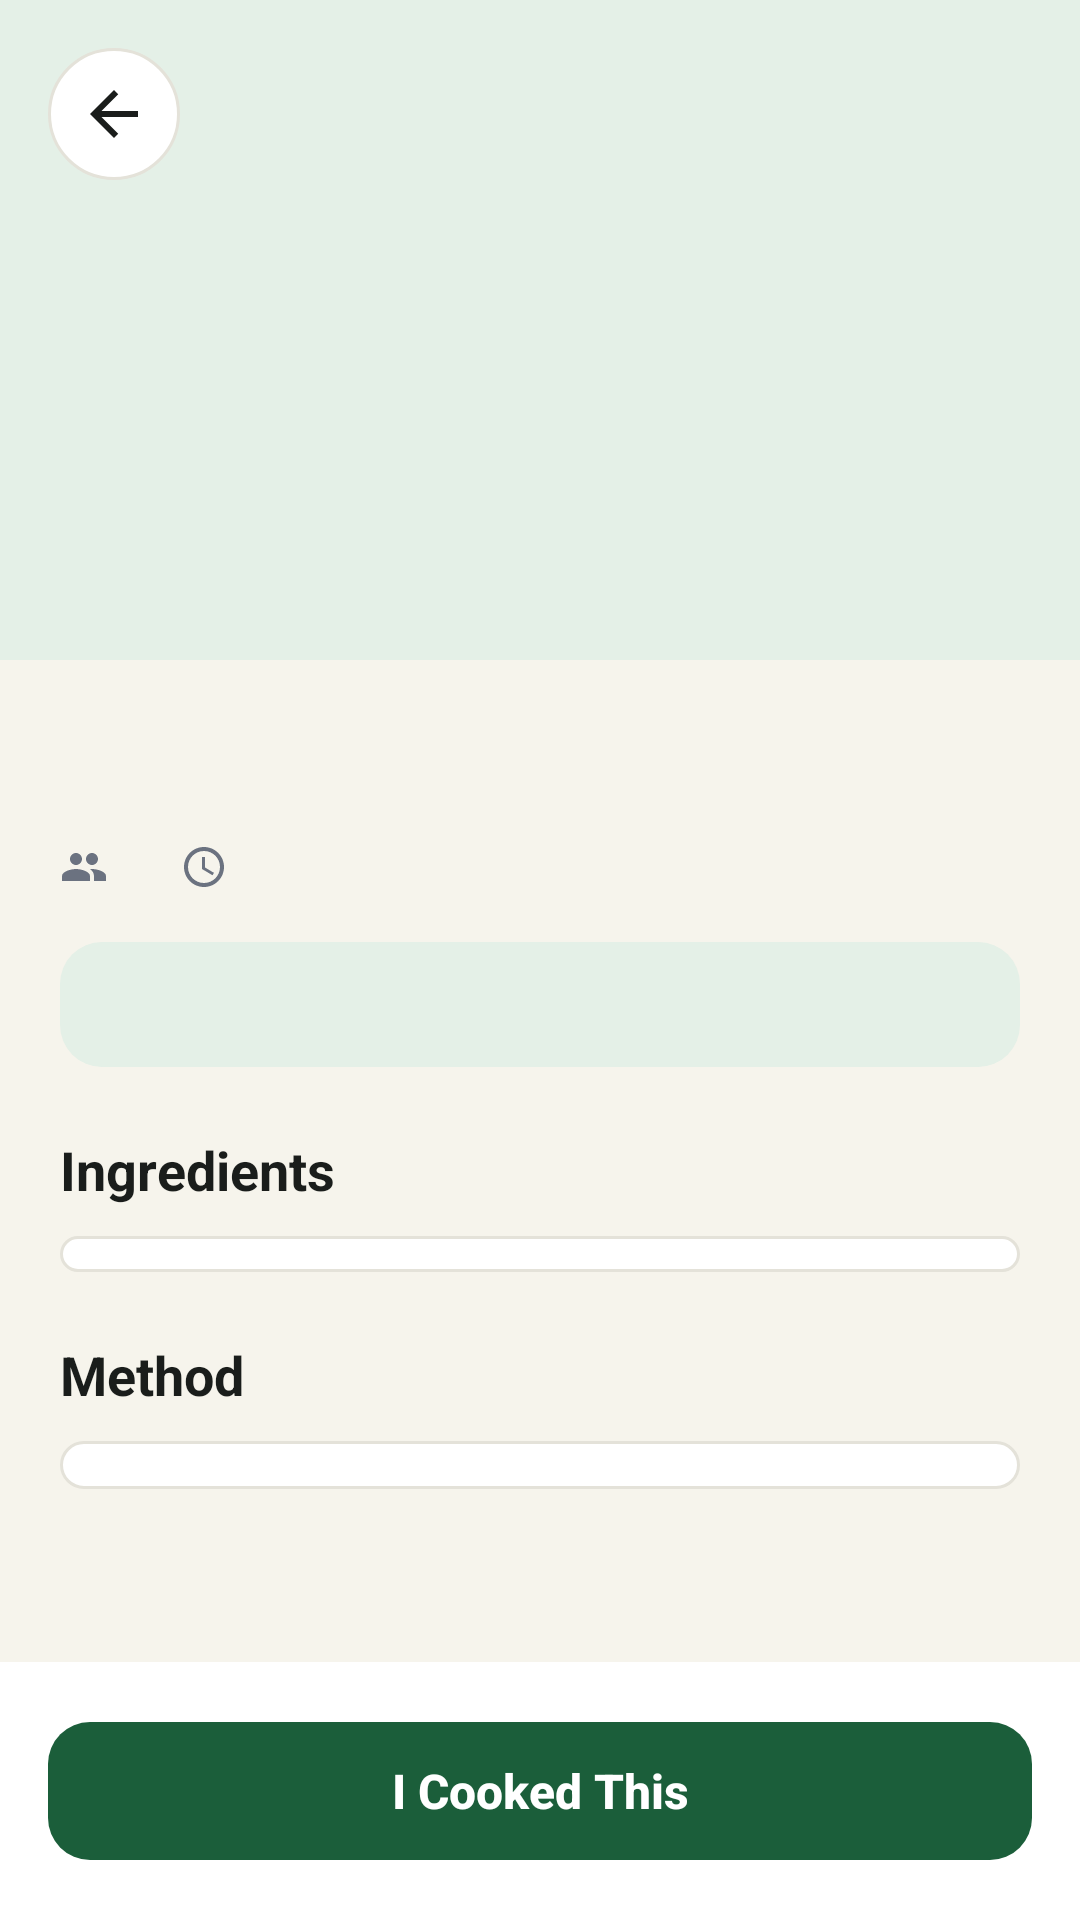

Named icons in this screenshot (1080*1920) and their bounding boxes, [x1,y1,x2,y2]:
Back: [51,51,177,177]
clock: [184,847,224,887]
people: [62,853,106,881]
